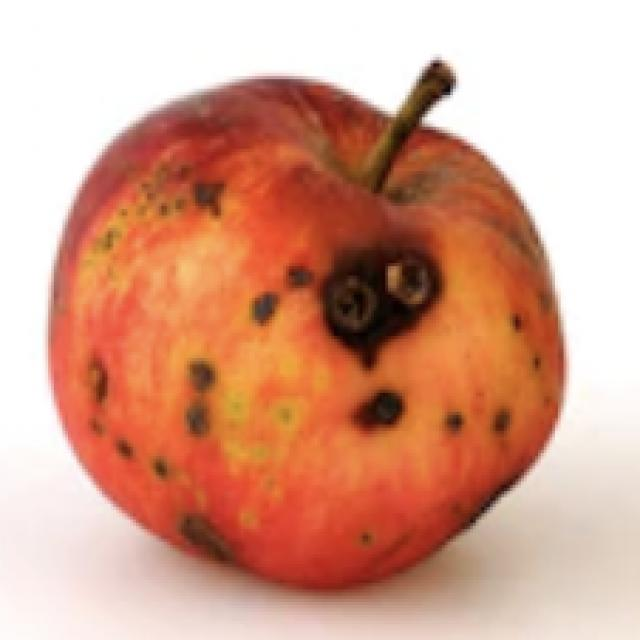rotten_apple: (46, 76, 565, 602)
